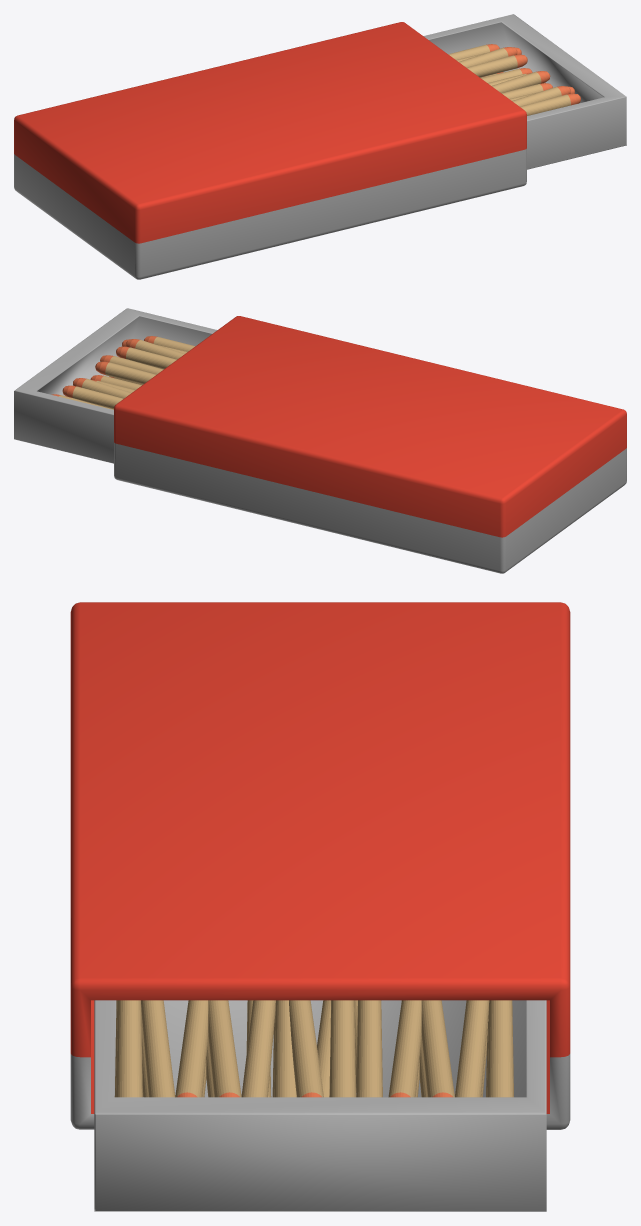
Rendered from cerillas.glb.
3 views of the same model, one above another, from view 1: azimuth 30°, elevation 25°; view 2: azimuth 150°, elevation 25°; view 3: azimuth 270°, elevation 25° (orthographic). The views are drawn at different scales.
Visible parts, largest first — view 1: Cube.001, Cube, Cylinder.004; view 2: Cube.001, Cube, Cylinder.004; view 3: Cube.001, Cube, Cylinder.004.
Part boxes in pixels (x1,y1,x2,y2): Cube.001: (14,22,526,279); Cube: (423,14,626,169); Cylinder.004: (448,44,580,115); Cube.001: (114,316,626,573); Cube: (14,308,217,463); Cylinder.004: (51,336,194,409); Cube.001: (70,602,570,1129); Cube: (94,1000,546,1211); Cylinder.004: (114,1000,513,1097).
Bounding box in the file's own units: 5.06 × 0.7393 × 2.21.
